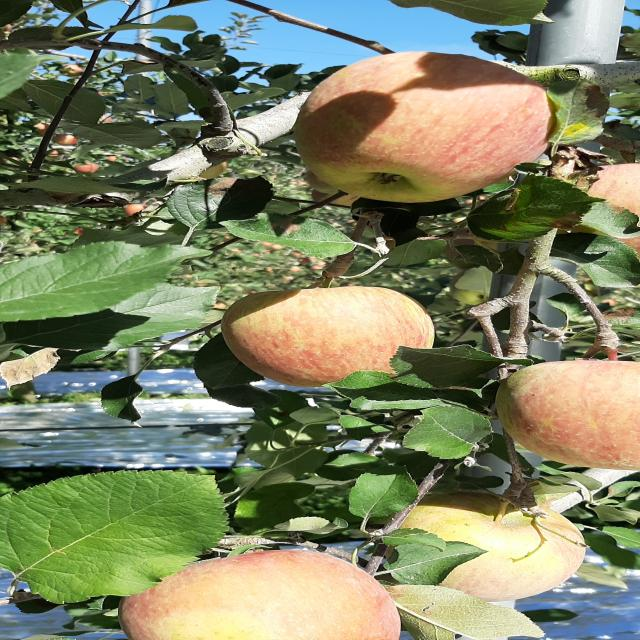fresh: (281, 39, 571, 213)
